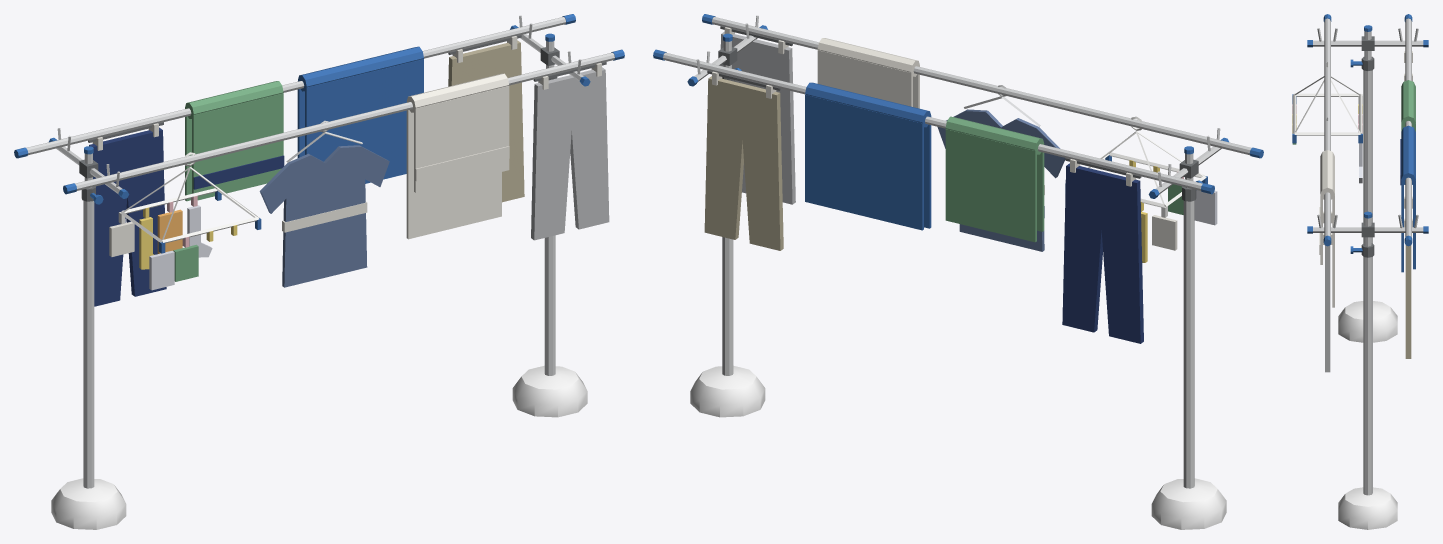
Rendered from laundry_pole.glb.
3 views of the same model, side by side, from view 1: azimuth 30°, elevation 25°; view 2: azimuth 150°, elevation 25°; view 3: azimuth 270°, elevation 25° (orthographic). The views are drawn at different scales.
Parts seen in each view (by area): view 1: laundry_pole_body; view 2: laundry_pole_body; view 3: laundry_pole_body.
Part boxes in pixels (box(x1,y1,x2,y2)): laundry_pole_body: box(14, 14, 624, 529); laundry_pole_body: box(653, 14, 1263, 529); laundry_pole_body: box(1292, 14, 1428, 529).
Size of what is drawn, in the model's own units: 2.9 by 1.82 by 0.7425.
